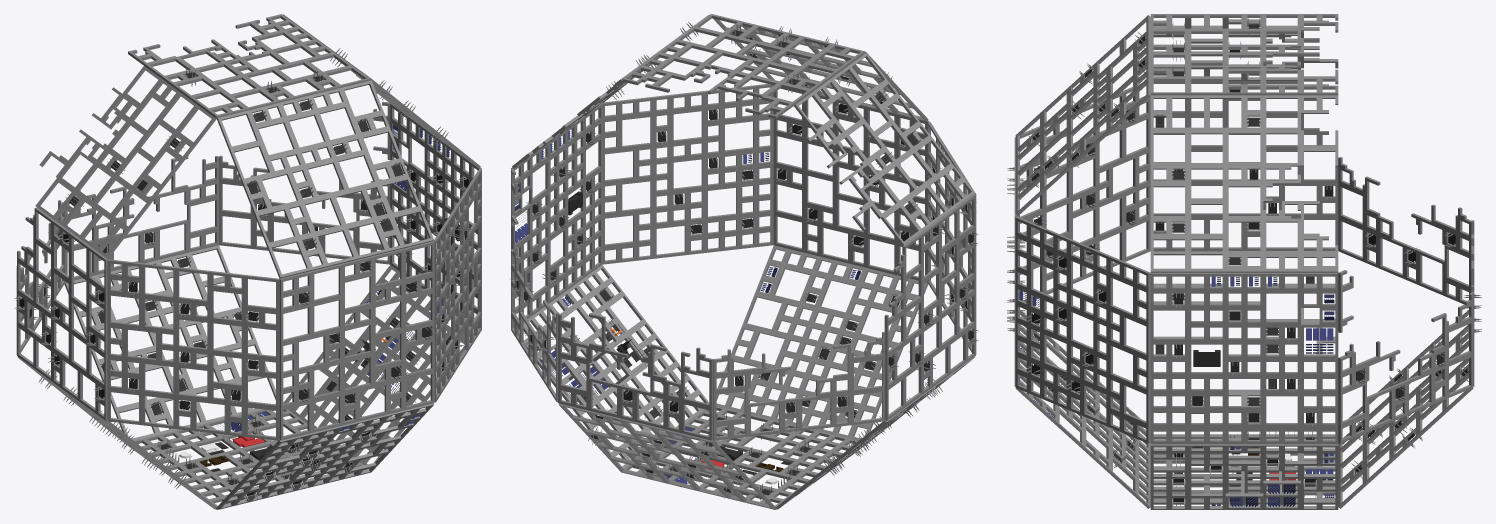
The model's file is StarbaseAtlasProjectProia.glb.
3 views of the same model, side by side, from view 1: azimuth 30°, elevation 25°; view 2: azimuth 150°, elevation 25°; view 3: azimuth 270°, elevation 25° (orthographic). The views are drawn at different scales.
Visible parts, largest first — view 1: Block_Marketplace.003, Block.139, Block.125, Block.074; view 2: Block_VIS_HQ.003, Block_Solar.005; view 3: Block_Solar.005, Block_Ship_Hangars.004, Block_Solar.004, Block.175, Block_Solar.002, Block.168, Block.182, Block.179, Block.180, Block.178, Block.176, Block.177 (+3 smaller).
Part boxes in pixels (x1,y1,x2,y2): Block_Marketplace.003: (192,435,239,456); Block.139: (267,238,310,278); Block.125: (244,275,279,311); Block.074: (310,264,342,304); Block_VIS_HQ.003: (606,334,646,376); Block_Solar.005: (511,203,531,248); Block_Solar.005: (1301,323,1338,358); Block_Ship_Hangars.004: (1188,342,1225,375); Block_Solar.004: (1263,480,1300,496); Block.175: (1188,236,1225,272); Block_Solar.002: (1225,493,1263,508); Block.168: (1150,236,1187,272); Block.182: (1263,130,1300,166); Block.179: (1225,183,1263,218); Block.180: (1225,130,1263,165); Block.178: (1225,218,1263,253); Block.176: (1188,165,1225,200); Block.177: (1188,130,1225,165).
Bounding box in the file's own units: 4676 × 4676 × 4676.
